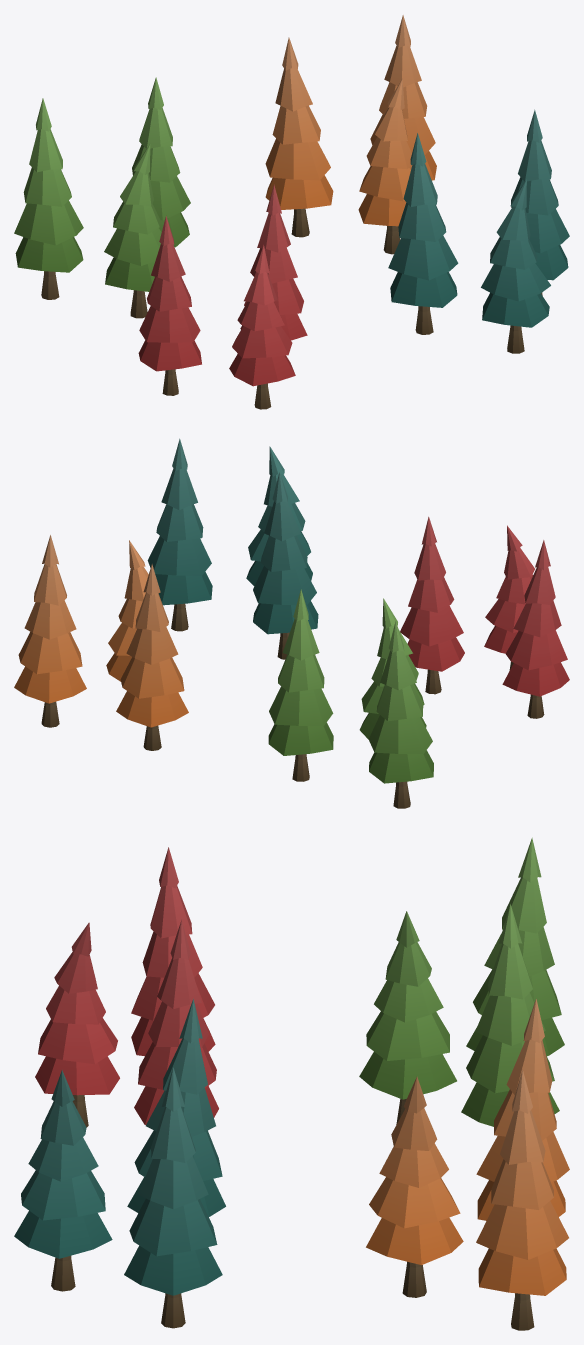
The model's file is Lowpoly_PineTrees.fbx.
3 views of the same model, one above another, from view 1: azimuth 30°, elevation 25°; view 2: azimuth 150°, elevation 25°; view 3: azimuth 270°, elevation 25° (orthographic). The views are drawn at different scales.
Parts seen in each view (by area): view 1: Lowpoly_Pine_02_Green, Lowpoly_Pine_02_Orange, Lowpoly_Pine_02_Yellow, Lowpoly_Pine_03_Green, Lowpoly_Pine_02_Blue, Lowpoly_Pine_03_Orange, Lowpoly_Pine_03_Blue, Lowpoly_Pine_03_Yellow, Lowpoly_Pine_01_Green, Lowpoly_Pine_01_Orange, Lowpoly_Pine_01_Blue_, Lowpoly_Pine_01_Yellow; view 2: Lowpoly_Pine_01_Yellow, Lowpoly_Pine_01_Orange, Lowpoly_Pine_02_Yellow, Lowpoly_Pine_02_Orange, Lowpoly_Pine_01_Green, Lowpoly_Pine_02_Green, Lowpoly_Pine_02_Blue, Lowpoly_Pine_01_Blue_, Lowpoly_Pine_03_Blue, Lowpoly_Pine_03_Yellow, Lowpoly_Pine_03_Green, Lowpoly_Pine_03_Orange; view 3: Lowpoly_Pine_01_Green, Lowpoly_Pine_01_Yellow, Lowpoly_Pine_03_Green, Lowpoly_Pine_03_Yellow, Lowpoly_Pine_03_Orange, Lowpoly_Pine_03_Blue, Lowpoly_Pine_01_Orange, Lowpoly_Pine_02_Yellow, Lowpoly_Pine_02_Green, Lowpoly_Pine_01_Blue_, Lowpoly_Pine_02_Orange, Lowpoly_Pine_02_Blue.
Boxes of the visible parts, box(x1,y1,x2,y2) form: Lowpoly_Pine_02_Green: box(388, 133, 458, 334); Lowpoly_Pine_02_Orange: box(14, 98, 83, 299); Lowpoly_Pine_02_Yellow: box(265, 37, 333, 237); Lowpoly_Pine_03_Green: box(481, 179, 550, 353); Lowpoly_Pine_02_Blue: box(138, 216, 201, 395); Lowpoly_Pine_03_Orange: box(104, 144, 161, 318); Lowpoly_Pine_03_Blue: box(229, 245, 295, 409); Lowpoly_Pine_03_Yellow: box(358, 78, 412, 254); Lowpoly_Pine_01_Green: box(511, 109, 569, 295); Lowpoly_Pine_01_Orange: box(132, 77, 190, 247); Lowpoly_Pine_01_Blue_: box(240, 184, 307, 340); Lowpoly_Pine_01_Yellow: box(370, 15, 436, 180); Lowpoly_Pine_01_Yellow: box(14, 535, 86, 727); Lowpoly_Pine_01_Orange: box(268, 589, 333, 781); Lowpoly_Pine_02_Yellow: box(116, 564, 188, 750); Lowpoly_Pine_02_Orange: box(368, 621, 433, 808); Lowpoly_Pine_01_Green: box(147, 438, 212, 631); Lowpoly_Pine_02_Green: box(253, 472, 318, 659); Lowpoly_Pine_02_Blue: box(502, 540, 569, 718); Lowpoly_Pine_01_Blue_: box(400, 516, 464, 694); Lowpoly_Pine_03_Blue: box(484, 525, 534, 670); Lowpoly_Pine_03_Yellow: box(106, 540, 159, 681); Lowpoly_Pine_03_Green: box(246, 446, 312, 586); Lowpoly_Pine_03_Orange: box(359, 598, 426, 739); Lowpoly_Pine_01_Green: box(124, 1067, 222, 1328); Lowpoly_Pine_01_Yellow: box(476, 1070, 568, 1330); Lowpoly_Pine_03_Green: box(14, 1070, 112, 1291); Lowpoly_Pine_03_Yellow: box(366, 1076, 463, 1297); Lowpoly_Pine_03_Orange: box(359, 911, 456, 1124); Lowpoly_Pine_03_Blue: box(35, 922, 119, 1127); Lowpoly_Pine_01_Orange: box(461, 903, 559, 1126); Lowpoly_Pine_02_Yellow: box(476, 999, 569, 1220); Lowpoly_Pine_02_Green: box(127, 999, 225, 1216); Lowpoly_Pine_01_Blue_: box(134, 920, 218, 1124); Lowpoly_Pine_02_Orange: box(466, 837, 564, 1056); Lowpoly_Pine_02_Blue: box(131, 847, 215, 1056).
Size of the model in its own units: 1317 by 582 by 1127.
